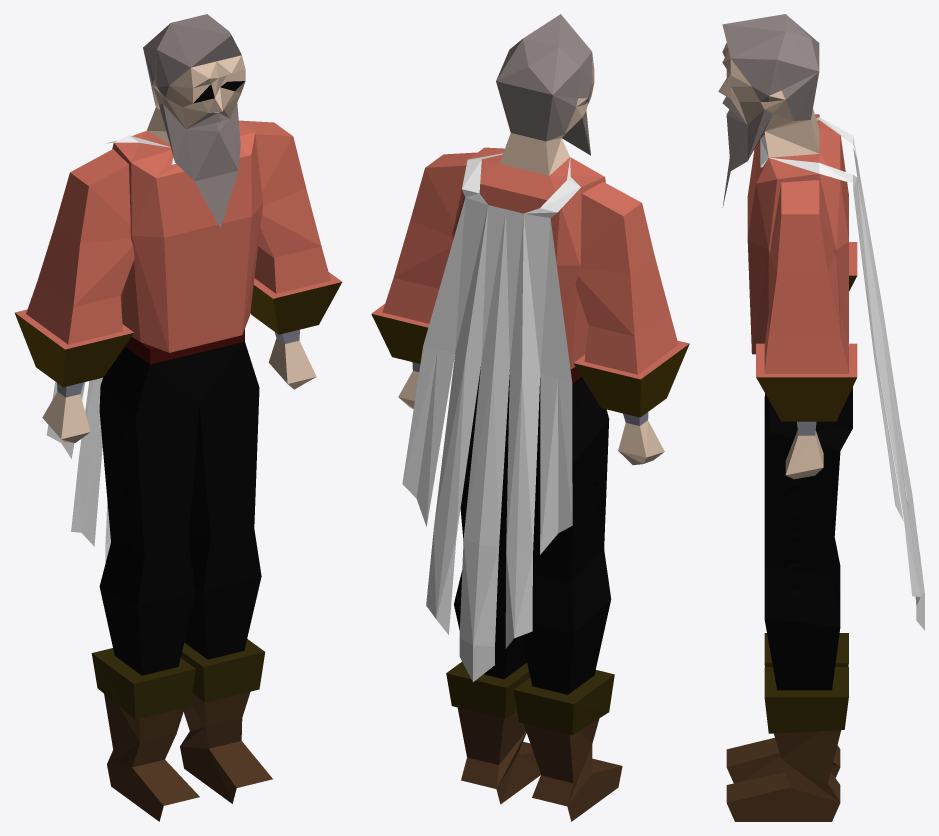
File: castle-wars.gltf
3 renders of one model, left to right at view 1: azimuth 30°, elevation 25°; view 2: azimuth 150°, elevation 25°; view 3: azimuth 270°, elevation 25°, orthographic. The views are drawn at different scales.
Bounding box in the file's own units: 76 × 203 × 49.
Materials: 1 (1 with a texture image).
